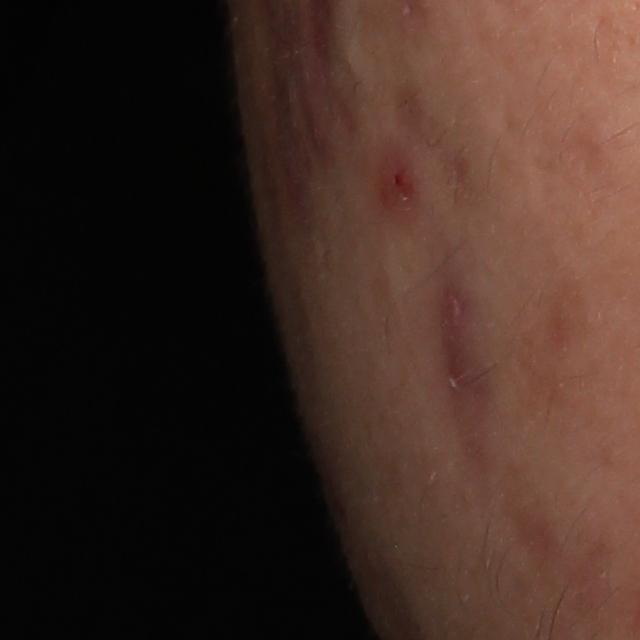atrophic_scar: (506, 124, 614, 281), (387, 72, 491, 229), (423, 260, 486, 475), (511, 502, 563, 582)
papule: (372, 162, 419, 210)
